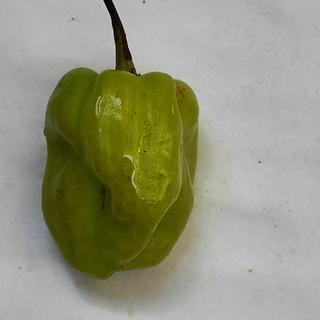Grade-A: (35, 60, 204, 281)
